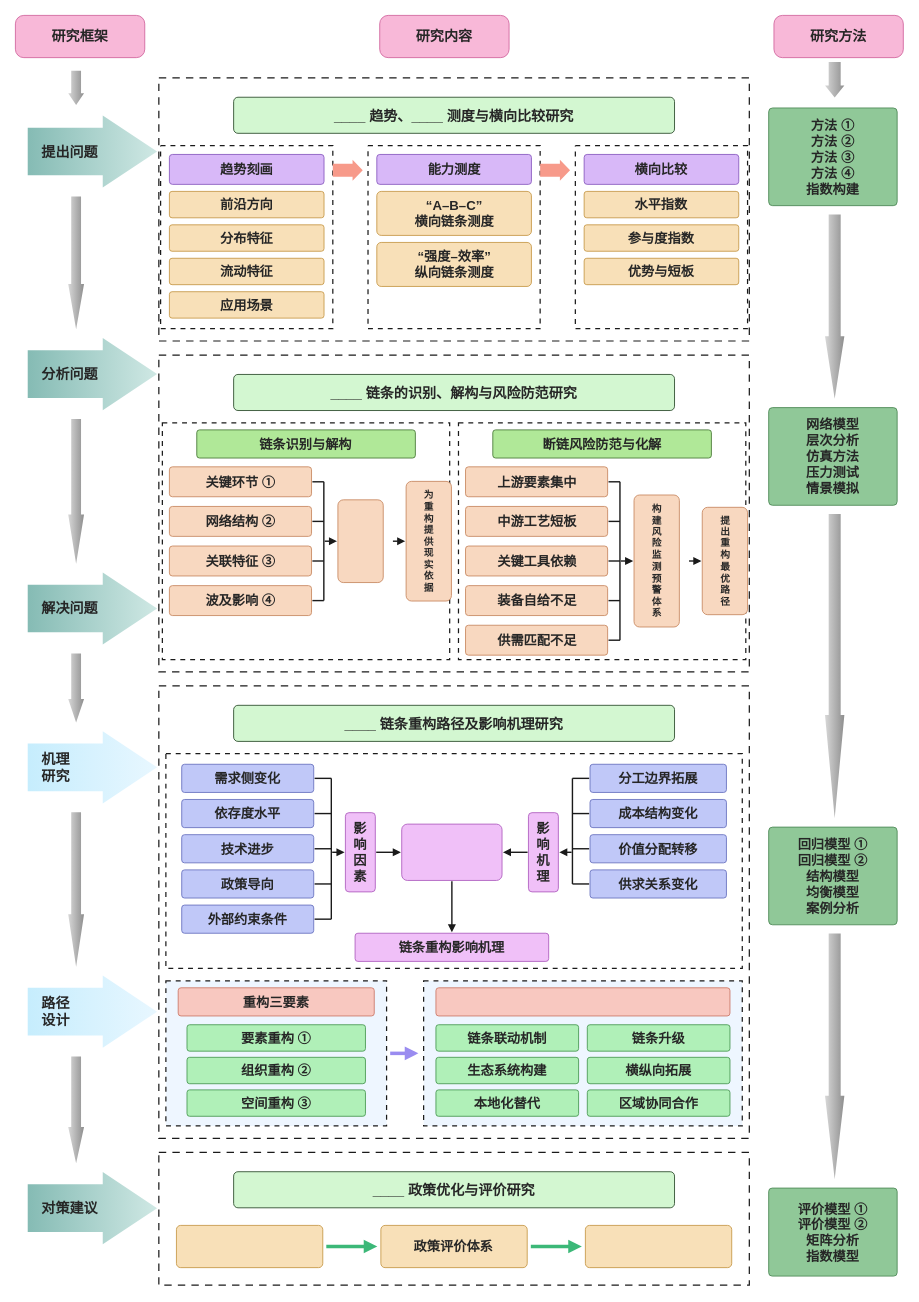
The diagram is 919 pixels wide and 1302 high, and some of its shapes have lost their labels. The shapes that lost their labels are listed below. From the top down, each one's centre as x and y in pixels, then its label:
At (360,541): "链 条 结 构 特 征".
At (451,851): "维度①+维度② +维度③".
At (582,1001): "____ 重构模式与路径".
At (249,1246): "政策发展 历程及成效".
At (658,1246): "政策优化建议".
